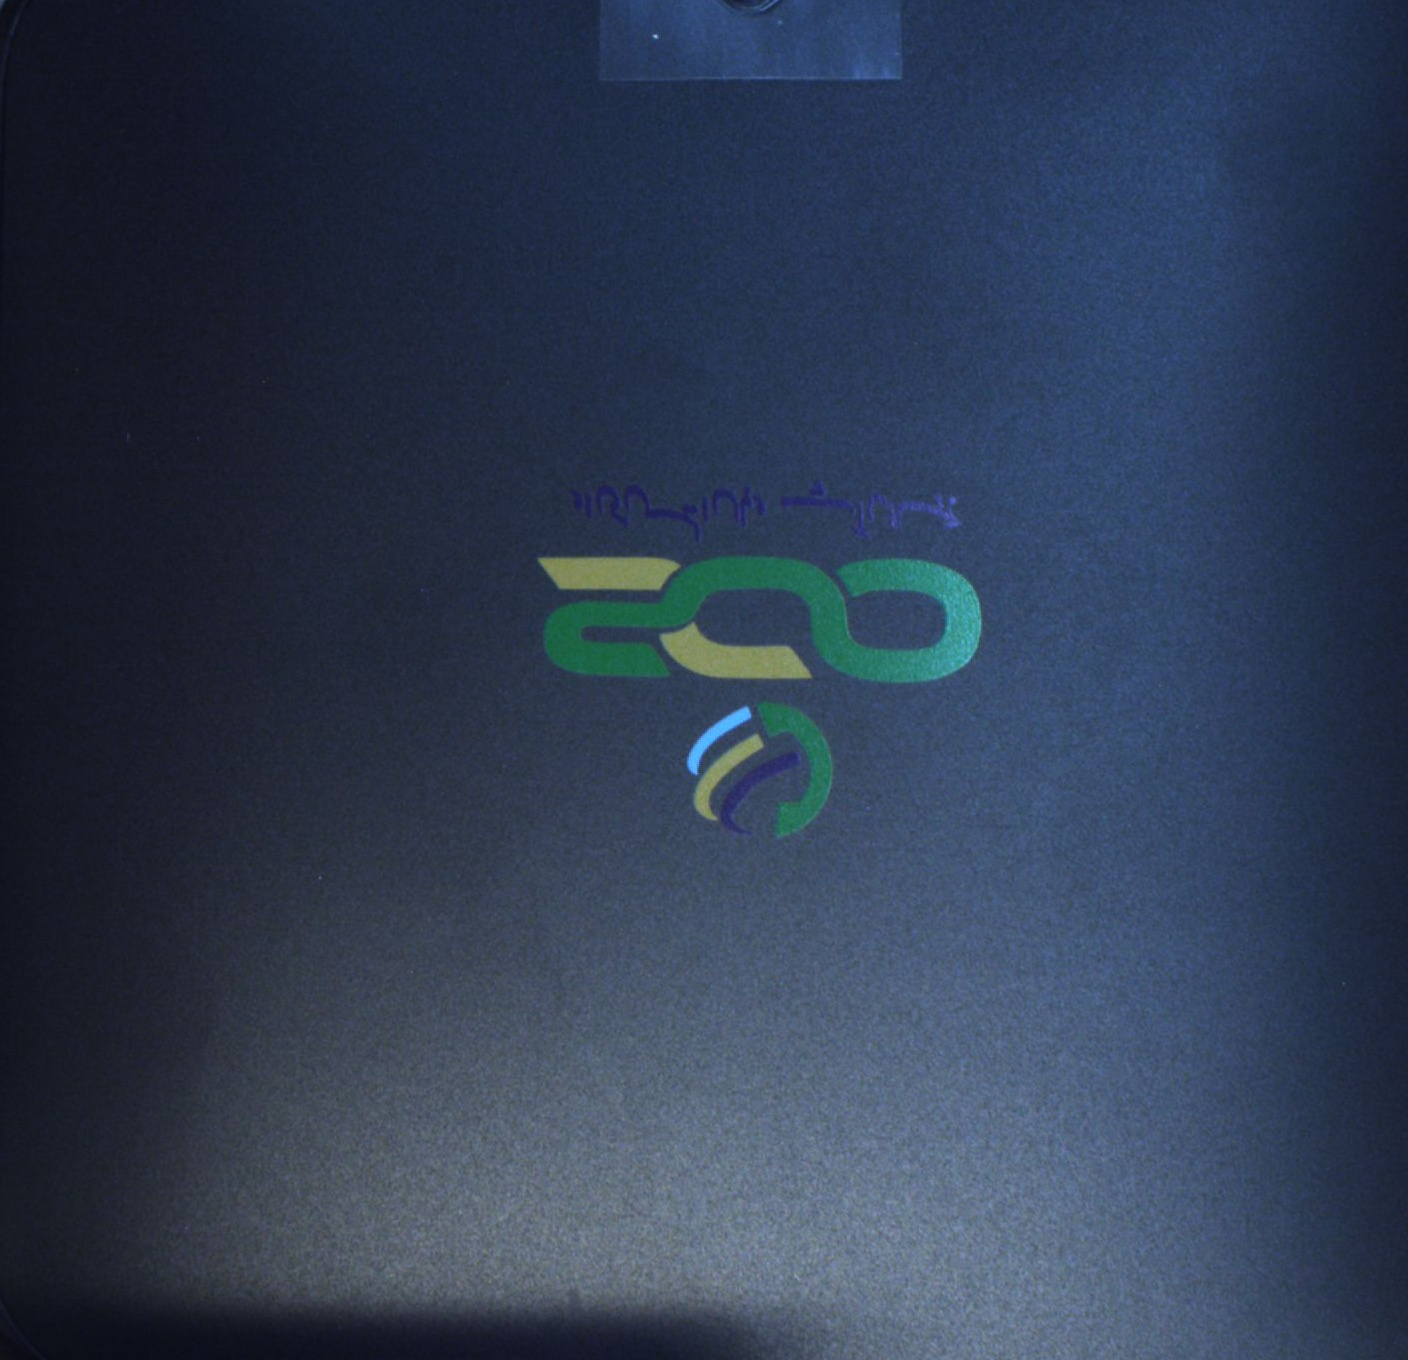BZ_HG680PSCOFirbeHome: (504, 458, 1020, 850)
